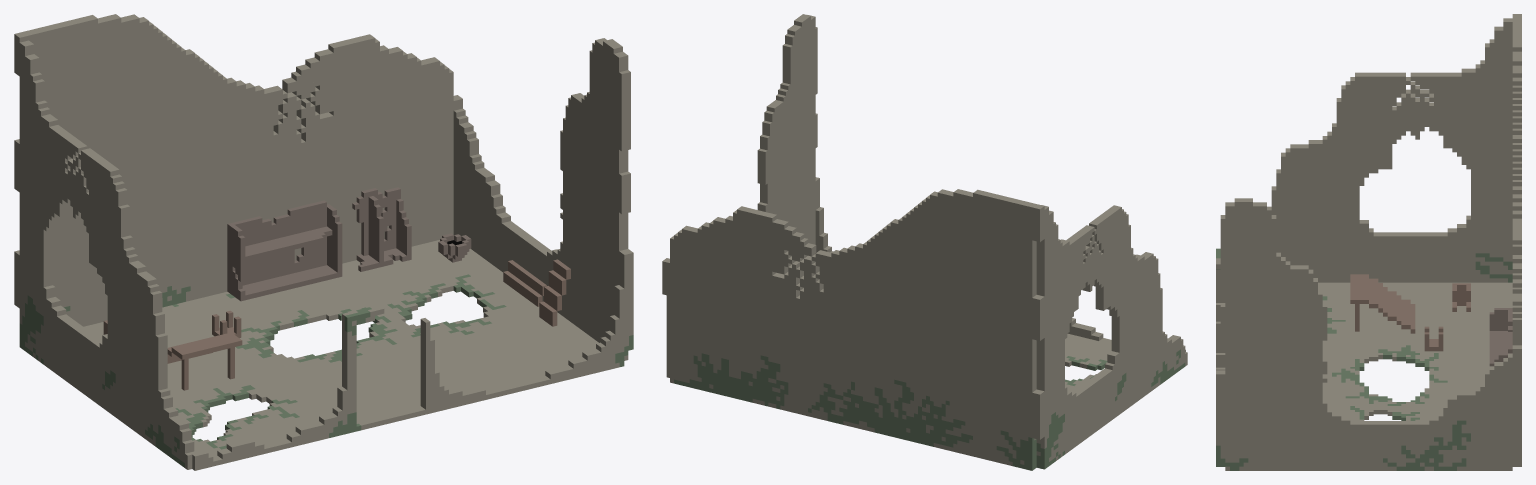
The model's file is Casa_derruida_02.fbx.
The picture shows the model from 3 angles, left to right: view 1: azimuth 30°, elevation 25°; view 2: azimuth 150°, elevation 25°; view 3: azimuth 270°, elevation 25°; orthographic projection. The views are drawn at different scales.
Visible parts, largest first — view 1: casaderruida2_96x64x66; view 2: casaderruida2_96x64x66; view 3: casaderruida2_96x64x66.
Part boxes in pixels (x1,y1,x2,y2): casaderruida2_96x64x66: [14, 14, 633, 470]; casaderruida2_96x64x66: [662, 14, 1187, 470]; casaderruida2_96x64x66: [1216, 14, 1521, 470].
Bounding box in the file's own units: 1011 × 674 × 695.
